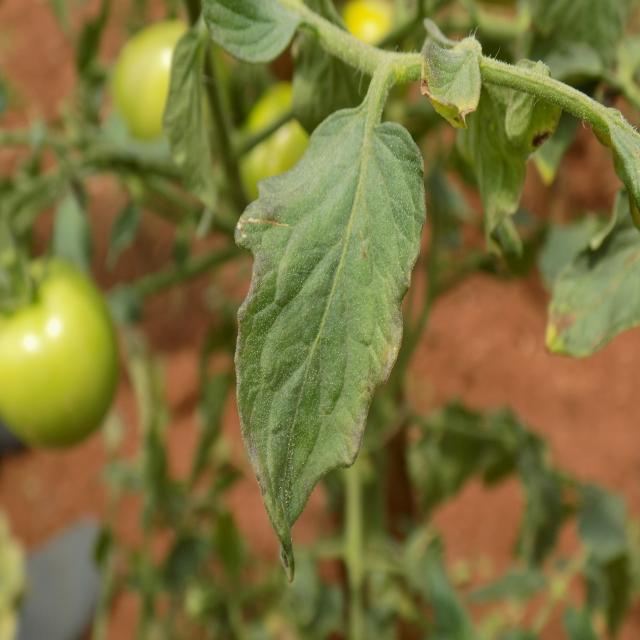tomato_healthy: (237, 104, 429, 582)
